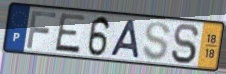6: (87, 14, 112, 58)
A: (108, 18, 141, 60)
E: (53, 12, 87, 55)
F: (26, 9, 59, 50)
S: (169, 22, 201, 66), (141, 20, 172, 62)
